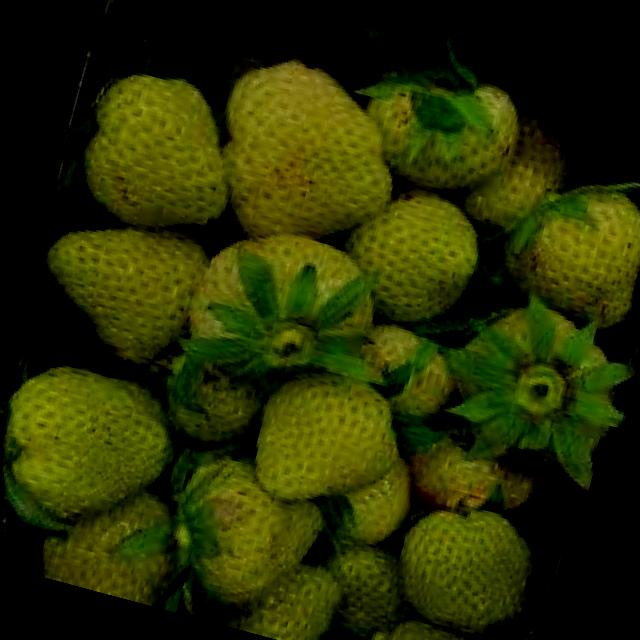Strawberry: (194, 46, 416, 268), (182, 218, 388, 406), (0, 352, 187, 548), (61, 62, 252, 249), (441, 299, 640, 473), (152, 448, 334, 630), (24, 202, 213, 376), (350, 45, 527, 206), (242, 358, 414, 523), (326, 173, 490, 340), (489, 164, 640, 338), (383, 492, 545, 640), (34, 468, 200, 612), (341, 176, 493, 332), (456, 96, 584, 240), (402, 414, 552, 531), (311, 524, 424, 638), (156, 352, 278, 455), (234, 550, 343, 640), (377, 609, 525, 640)
